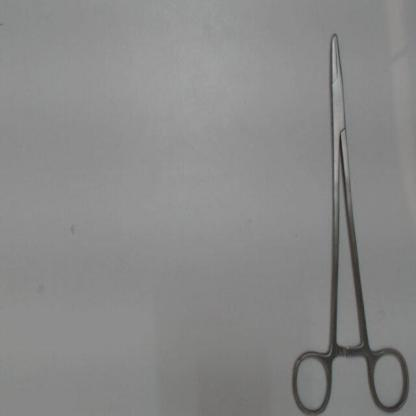8 Mayo Needle Holder: (284, 13, 416, 414)
